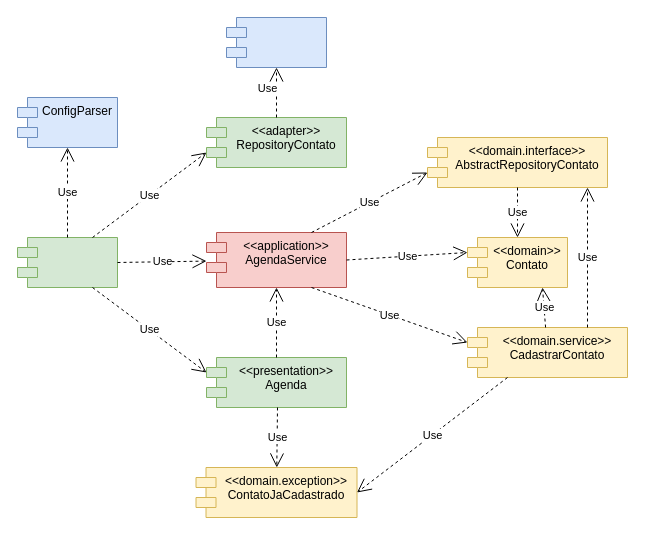
Some shapes in this 645 by 535 pixel diagram are drawn without their labels. The centre of each missing label's shape, as x and y in pixels:
"main" goes at [67,262].
"pymongo" goes at [276,42].
